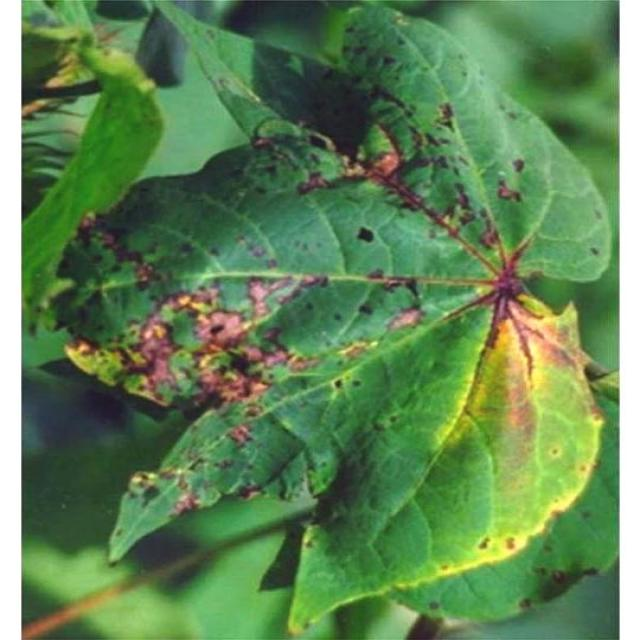Bacterial Blight: (97, 216, 346, 416)
